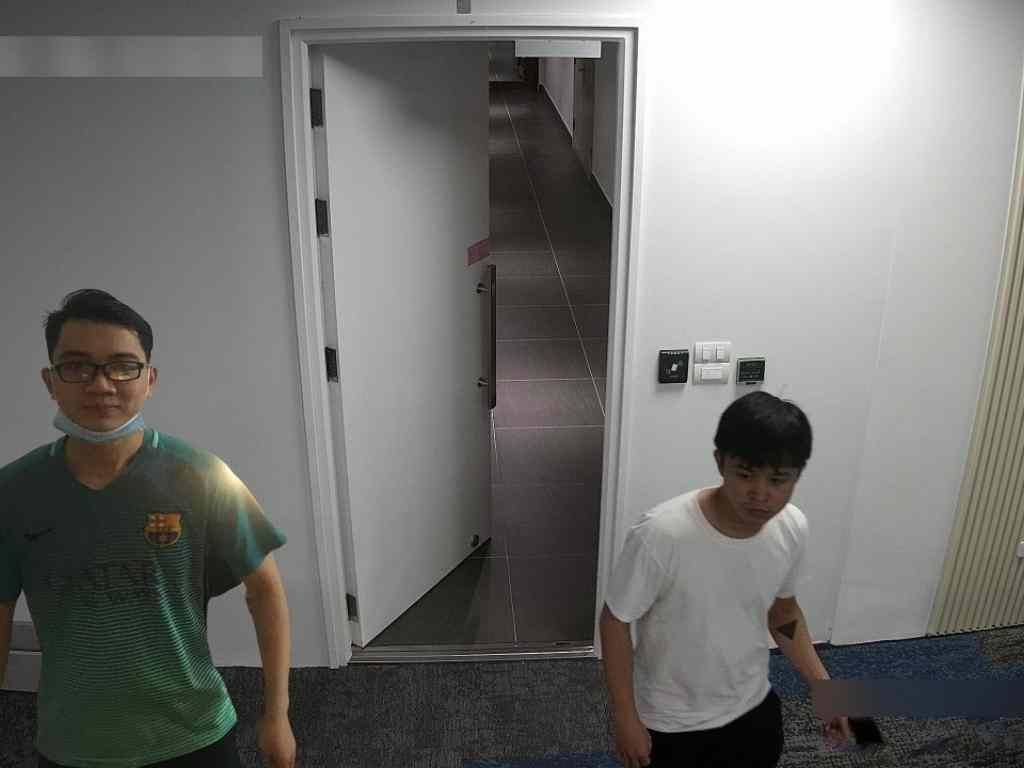no_gloves: (708, 371, 839, 478), (26, 280, 184, 360)
no_hairnet: (48, 373, 154, 454), (724, 478, 796, 539)
